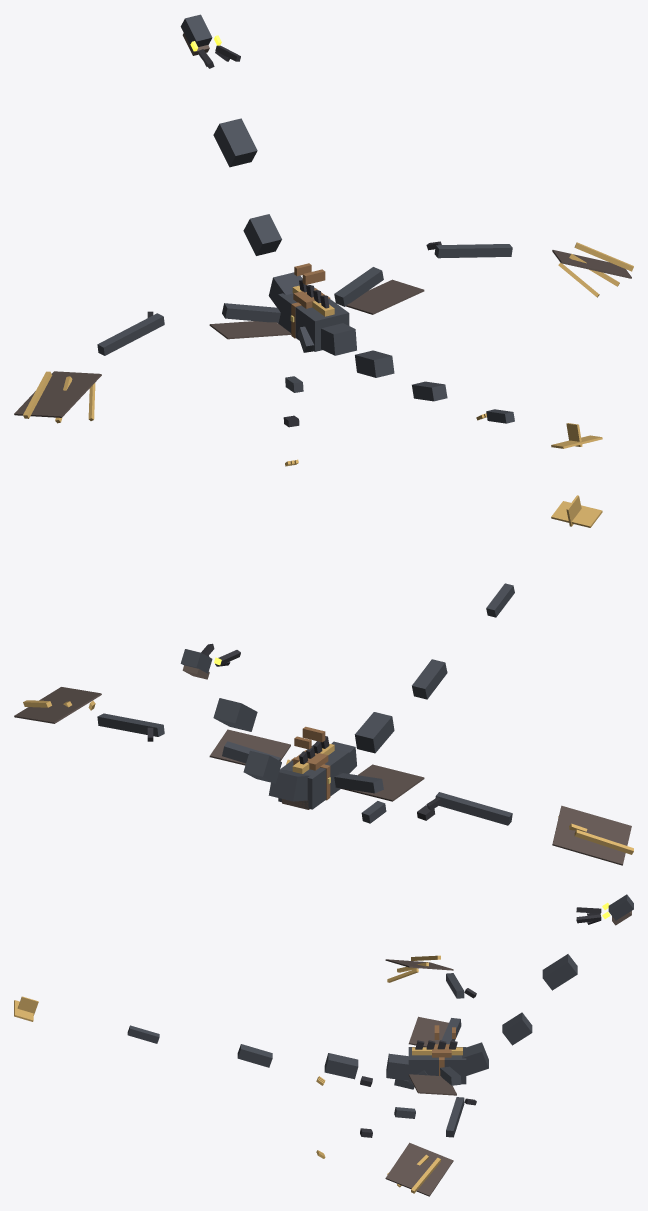
File: golden_wyvern.glb
3 renders of one model, top to bottom at view 1: azimuth 30°, elevation 25°; view 2: azimuth 150°, elevation 25°; view 3: azimuth 270°, elevation 25°, orthographic. The views are drawn at different scales.
Parts seen in each view (by area): view 1: Membrane_Outer_L, Torso_Main, Wyvern_Head, Membrane_Inner_R, Neck_Mid, Membrane_Inner_L, Wing_Radius_R, Wing_Radius_L, Tail_1, Wing_Humerus_R, Wing_Humerus_L, Tail_2 (+2 smaller); view 2: Membrane_Outer_L, Membrane_Outer_R, Torso_Main, Membrane_Inner_L, Membrane_Inner_R, Tail_2, Wing_Radius_L, Neck_Base, Wyvern_Head, Neck_Mid, Wing_Radius_R, Tail_3 (+3 smaller); view 3: Membrane_Outer_R, Torso_Main, Wyvern_Head, Membrane_Inner_L, Membrane_Inner_R, Tail_2, Neck_Mid, Neck_Base, Tail_1, Tail_3.
Boxes of the visible parts, box(x1,y1,x2,y2) form: Membrane_Outer_L: box(14, 371, 101, 417); Torso_Main: box(278, 287, 349, 351); Wyvern_Head: box(213, 118, 257, 167); Membrane_Inner_R: box(346, 279, 424, 314); Neck_Mid: box(243, 214, 281, 255); Membrane_Inner_L: box(209, 321, 290, 339); Wing_Radius_R: box(434, 244, 512, 258); Wing_Radius_L: box(97, 313, 164, 355); Tail_1: box(321, 323, 356, 355); Wing_Humerus_R: box(334, 267, 383, 306); Wing_Humerus_L: box(222, 303, 280, 323); Tail_2: box(355, 350, 394, 377); Membrane_Outer_L: box(552, 805, 631, 865); Membrane_Outer_R: box(14, 687, 101, 723); Torso_Main: box(278, 744, 349, 809); Membrane_Inner_L: box(341, 764, 424, 801); Membrane_Inner_R: box(209, 729, 290, 765); Tail_2: box(354, 712, 394, 753); Wing_Radius_L: box(435, 792, 512, 825); Neck_Base: box(268, 770, 309, 801); Wyvern_Head: box(213, 698, 257, 731); Neck_Mid: box(243, 750, 281, 783); Wing_Radius_R: box(97, 713, 164, 736); Tail_3: box(412, 659, 447, 699); Membrane_Outer_R: box(385, 1142, 453, 1196); Torso_Main: box(408, 1047, 466, 1084); Wyvern_Head: box(542, 954, 577, 990); Membrane_Inner_L: box(408, 1016, 448, 1046); Membrane_Inner_R: box(408, 1074, 456, 1095); Tail_2: box(324, 1053, 358, 1079); Neck_Mid: box(502, 1012, 532, 1045); Neck_Base: box(462, 1042, 488, 1075); Tail_1: box(386, 1053, 408, 1080); Tail_3: box(237, 1044, 272, 1067).
Bounding box in the file's own units: 24.97 × 11.11 × 27.93.
